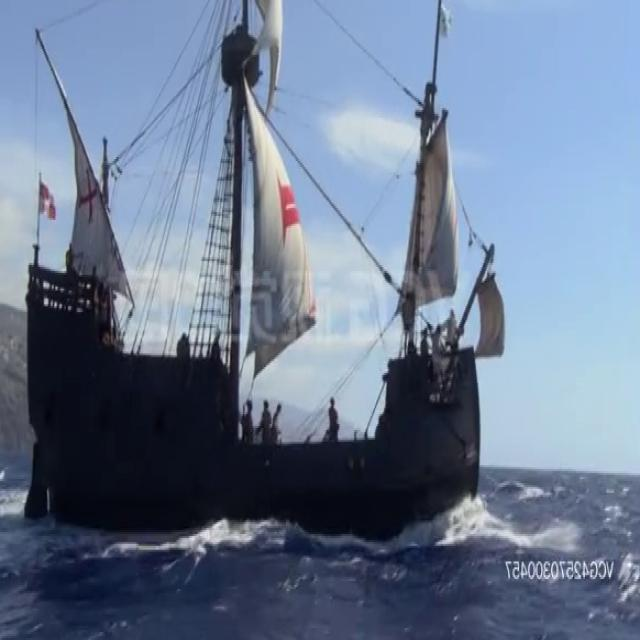sailboat: (18, 0, 506, 544)
